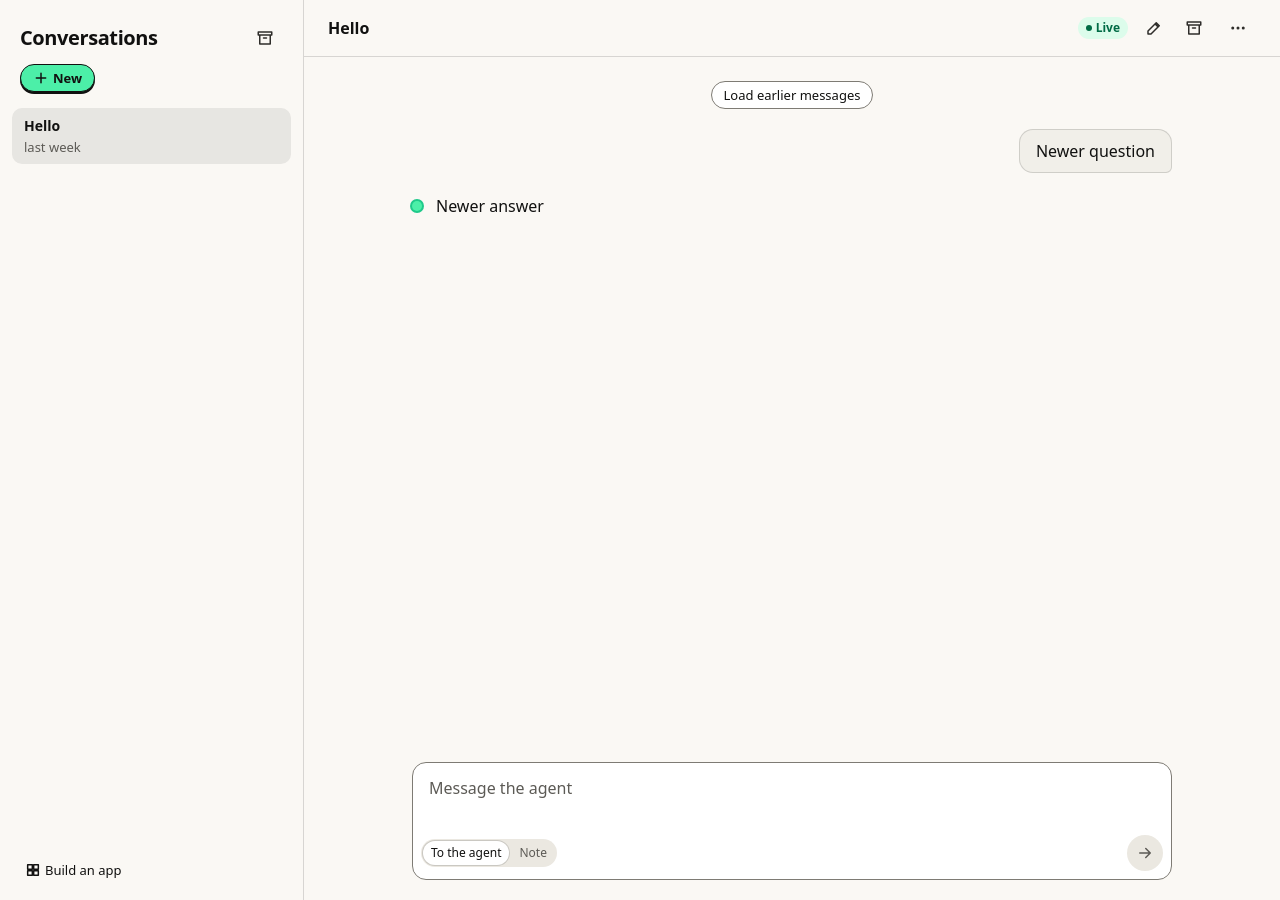
Test case: earlier messages load from before the stream, and stay as the stream moves on
Click the button "Load earlier messages".
click(792, 95)  # box [710, 81, 873, 109]
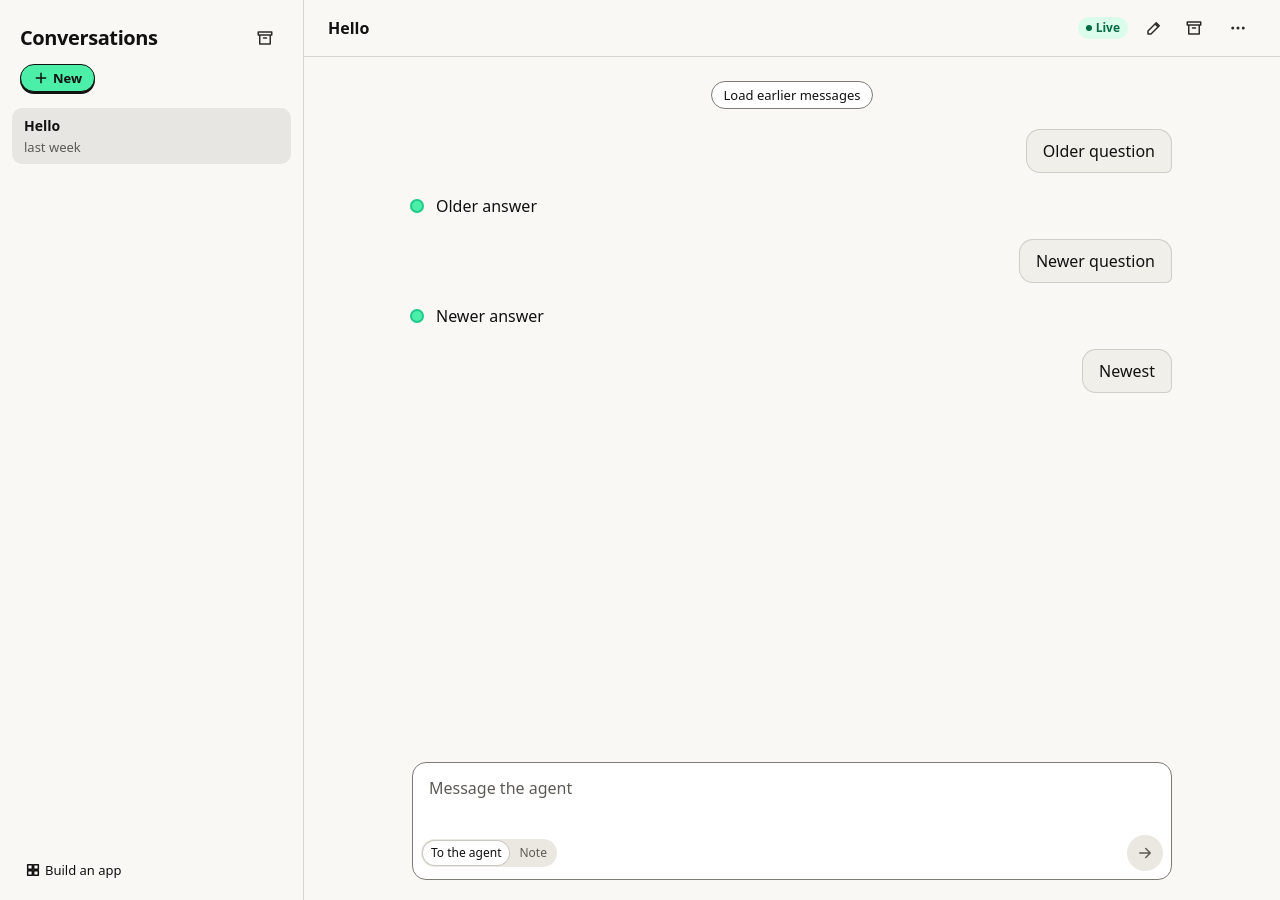
Click the button "Load earlier messages".
click(792, 95)  # box [710, 81, 873, 109]
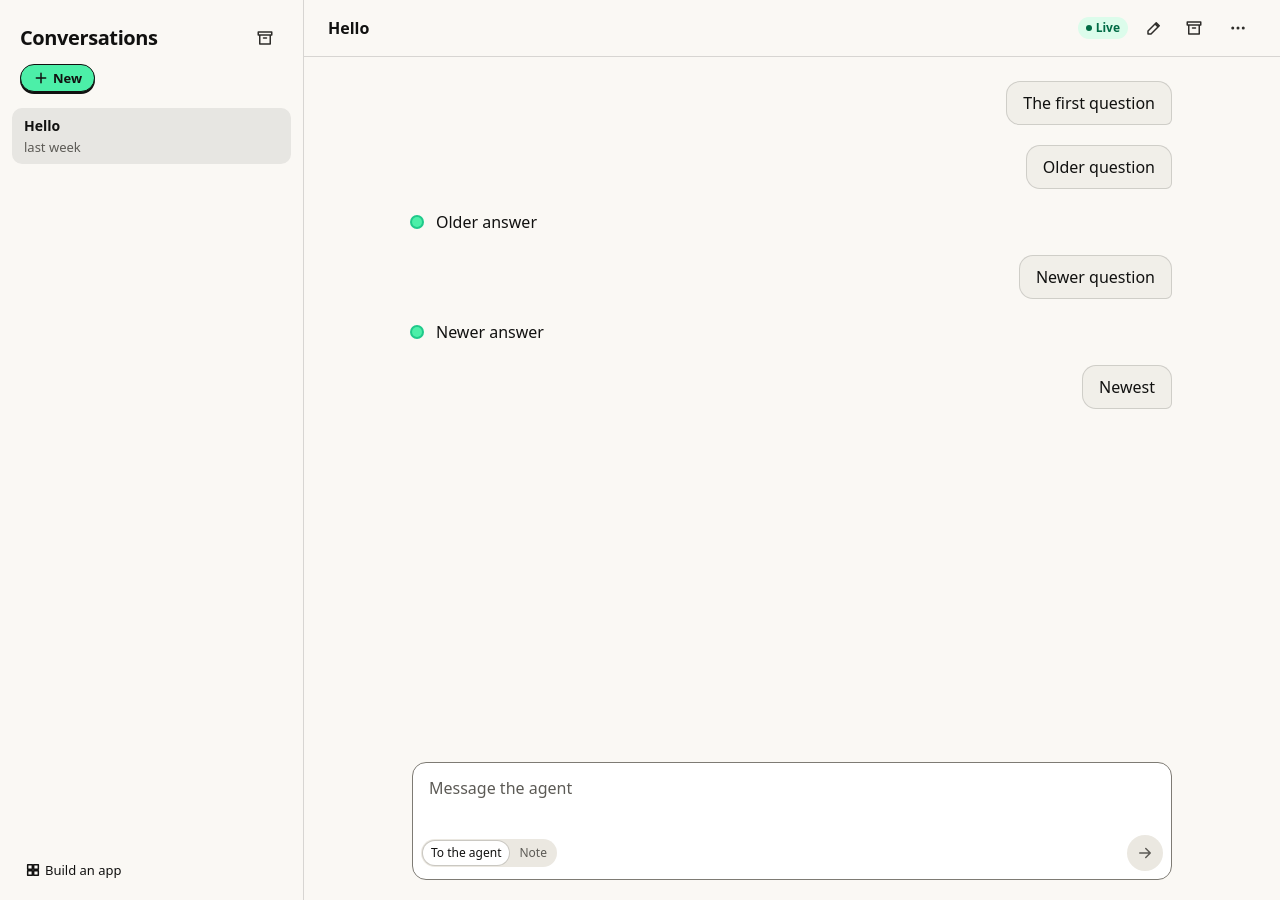
Result: the text "The first question" is shown at [1023, 90, 1155, 116]
Result: the button "Load earlier messages" is gone
